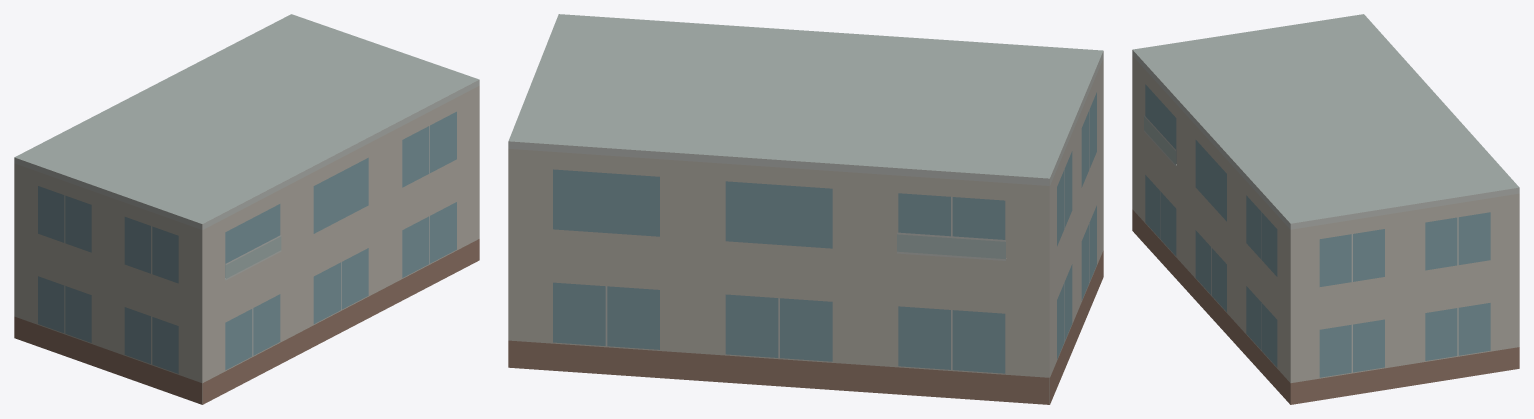
The model's file is survey-upis-32866048.glb.
The picture shows the model from 3 angles, left to right: view 1: azimuth 30°, elevation 25°; view 2: azimuth 150°, elevation 25°; view 3: azimuth 270°, elevation 25°; orthographic projection. The views are drawn at different scales.
Parts seen in each view (by area): view 1: survey-upis-32866048.tmp; view 2: survey-upis-32866048.tmp; view 3: survey-upis-32866048.tmp.
Part boxes in pixels (x1,y1,x2,y2): survey-upis-32866048.tmp: (14,14,479,404); survey-upis-32866048.tmp: (508,14,1103,404); survey-upis-32866048.tmp: (1132,14,1519,404).
Bounding box in the file's own units: 18.39 × 7.4 × 14.35.
